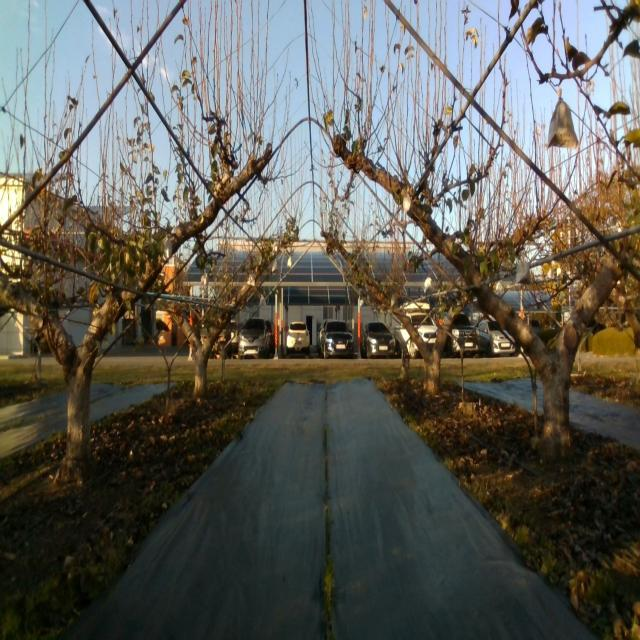pearbags: (547, 99, 579, 150), (515, 260, 531, 285)
